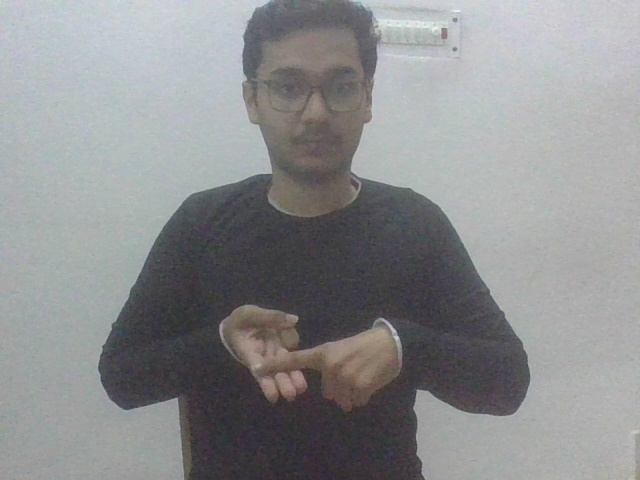E: (216, 303, 400, 412)
